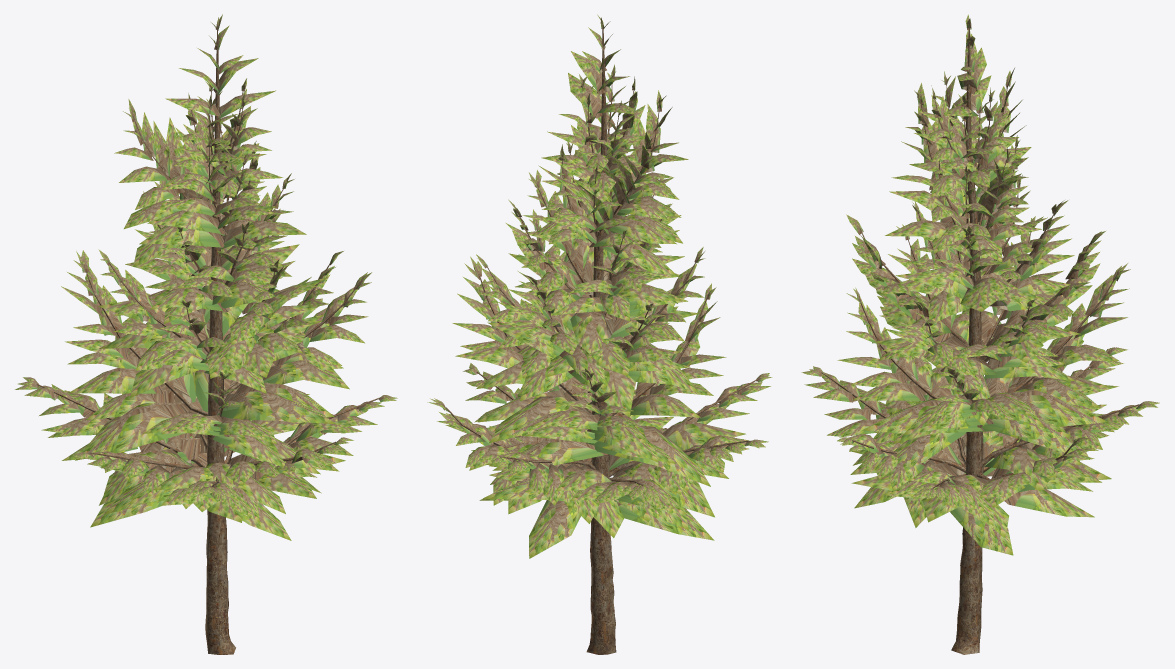
Rendered from Pine01.fbx.
The picture shows the model from 3 angles, left to right: view 1: azimuth 30°, elevation 25°; view 2: azimuth 150°, elevation 25°; view 3: azimuth 270°, elevation 25°; orthographic projection.
Parts seen in each view (by area): view 1: Pine01_LOD0; view 2: Pine01_LOD0; view 3: Pine01_LOD0.
Boxes of the visible parts, x1,y1,x2,y2 form: Pine01_LOD0: [15, 14, 397, 654]; Pine01_LOD0: [427, 14, 772, 654]; Pine01_LOD0: [801, 14, 1159, 654].
Size of what is drawn, in the model's own units: 687 by 1327 by 685.
Materials: 2 (2 with a texture image).
